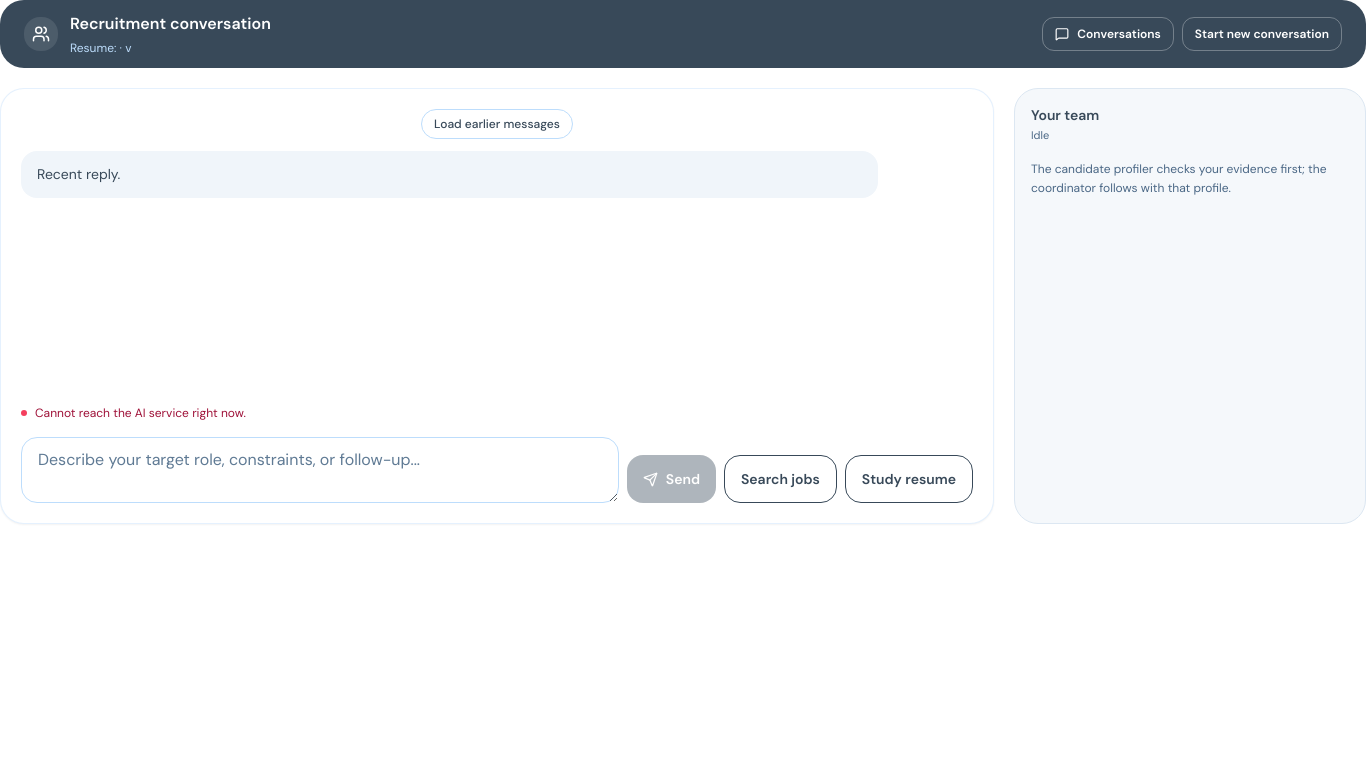
Test: RecruitmentTeamPanel › loads earlier conversation messages without making the initial snapshot unbounded
Expected: the text "Original request." is not shown
Click the button "Load earlier messages" at (497, 124), box top-left (421, 109), bottom-right (573, 139)
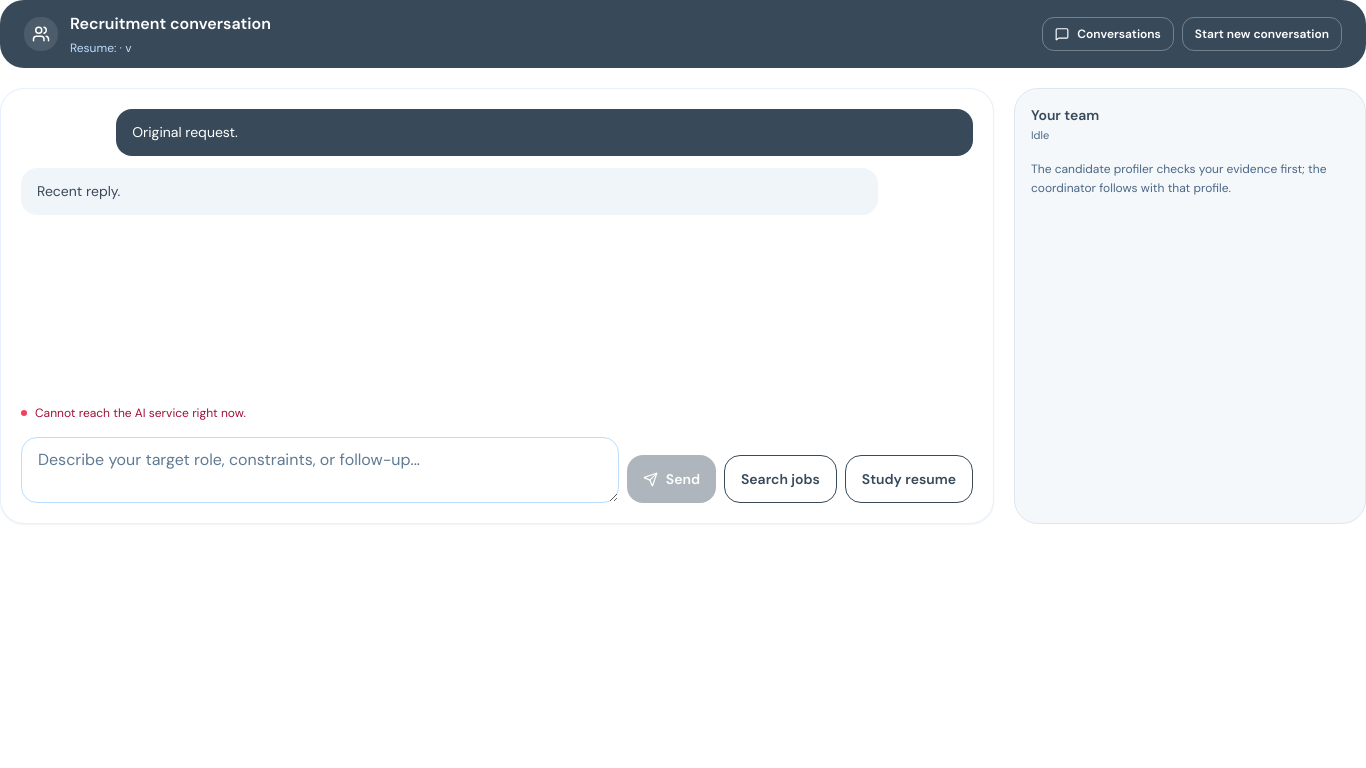
Expected: the text "Recent reply." is shown, top-left (21, 168), bottom-right (878, 215)
Now the text "Original request." is shown, box top-left (116, 109), bottom-right (973, 156)
Now the text "Load earlier messages" is gone
